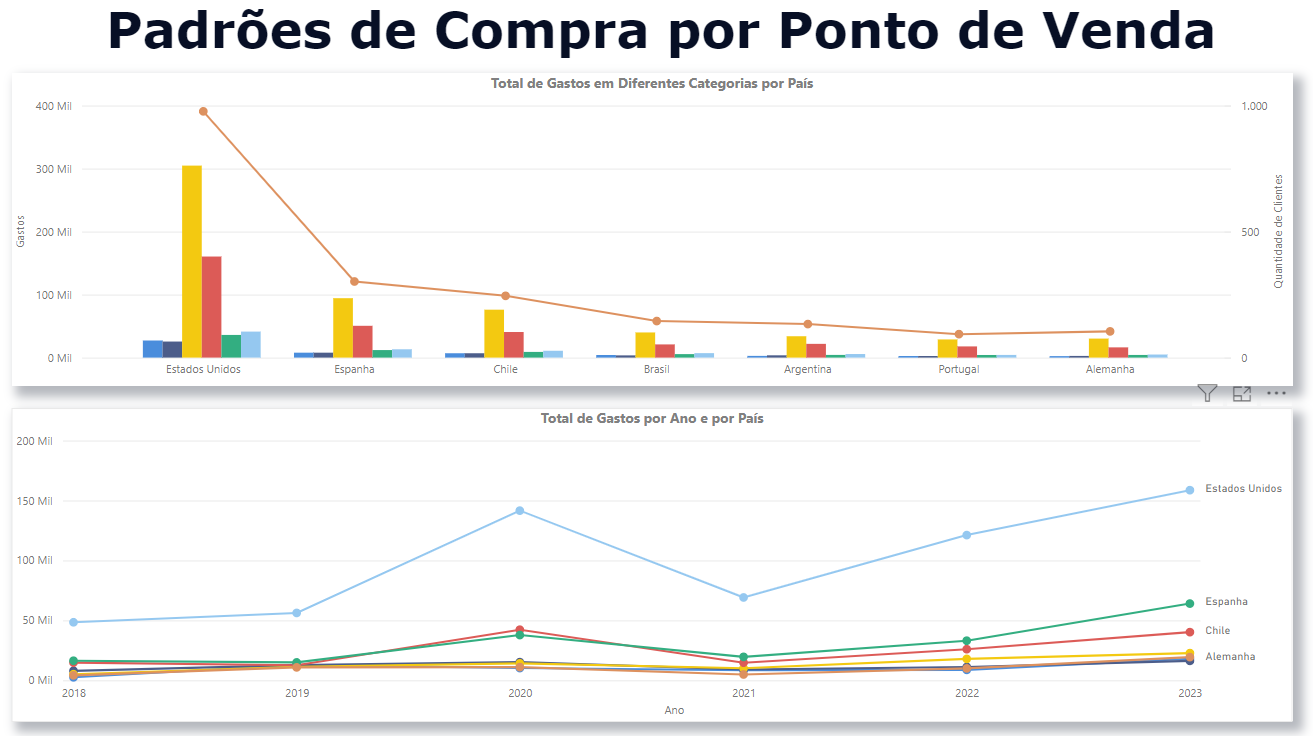

Layout of this report page (visuals, bound fields, positions):
{"tool":"powerbi","page":{"name":"Visão Pontos de Venda","canvas":[1280,720],"ordinal":3},"visuals":[{"type":"textbox","box":[11.5,0,1253.7,90.6],"z":1000},{"type":"lineChart","title":"Total de Gastos por Ano e por País","fields":{"Y":["DadosMarketing.TotalGasto"],"Series":["DadosMarketing.Pais"],"Category":["DadosMarketing.Data Cadastro.Variation.Hierarquia de datas.Ano"]},"box":[12.1,400.4,1236.2,302.7],"z":2000},{"type":"lineClusteredColumnComboChart","title":"Total de Gastos em Diferentes Categorias por País","fields":{"Category":["DadosMarketing.Pais"],"Y2":["CountNonNull(DadosMarketing.ID)"],"Y":["Sum(DadosMarketing.Gasto com Alimentos)","Sum(DadosMarketing.Gasto com Brinquedos)","Sum(DadosMarketing.Gasto com Eletronicos)","Sum(DadosMarketing.Gasto com Moveis)","Sum(DadosMarketing.Gasto com Utilidades)","Sum(DadosMarketing.Gasto com Vestuario)"]},"box":[12.1,77.2,1236.2,302.7],"z":3000}]}

Visuals, with their boxes in screenshot pixels (x1, y1, x2, y2), scaled from the page's 1280x720 canvas onto the 1313x736 screenshot:
textbox: l=12, t=0, r=1298, b=93
"Total de Gastos por Ano e por País" lineChart: l=12, t=409, r=1280, b=719
"Total de Gastos em Diferentes Categorias por País" lineClusteredColumnComboChart: l=12, t=79, r=1280, b=388
